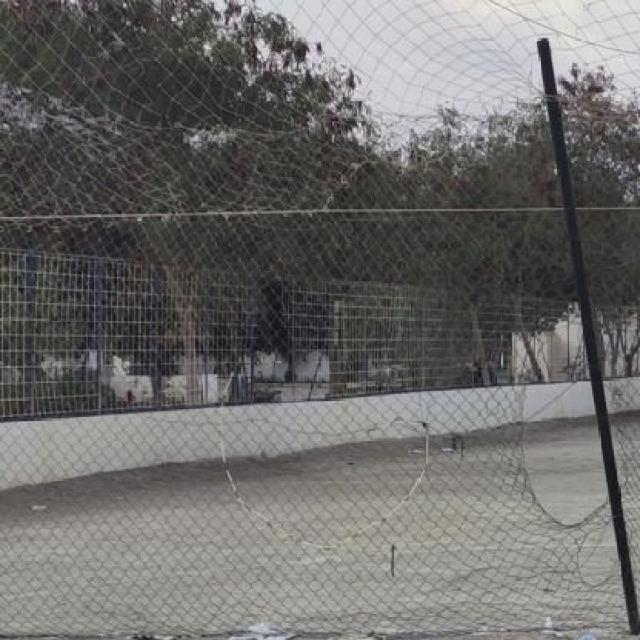fence line: (519, 309, 624, 523)
